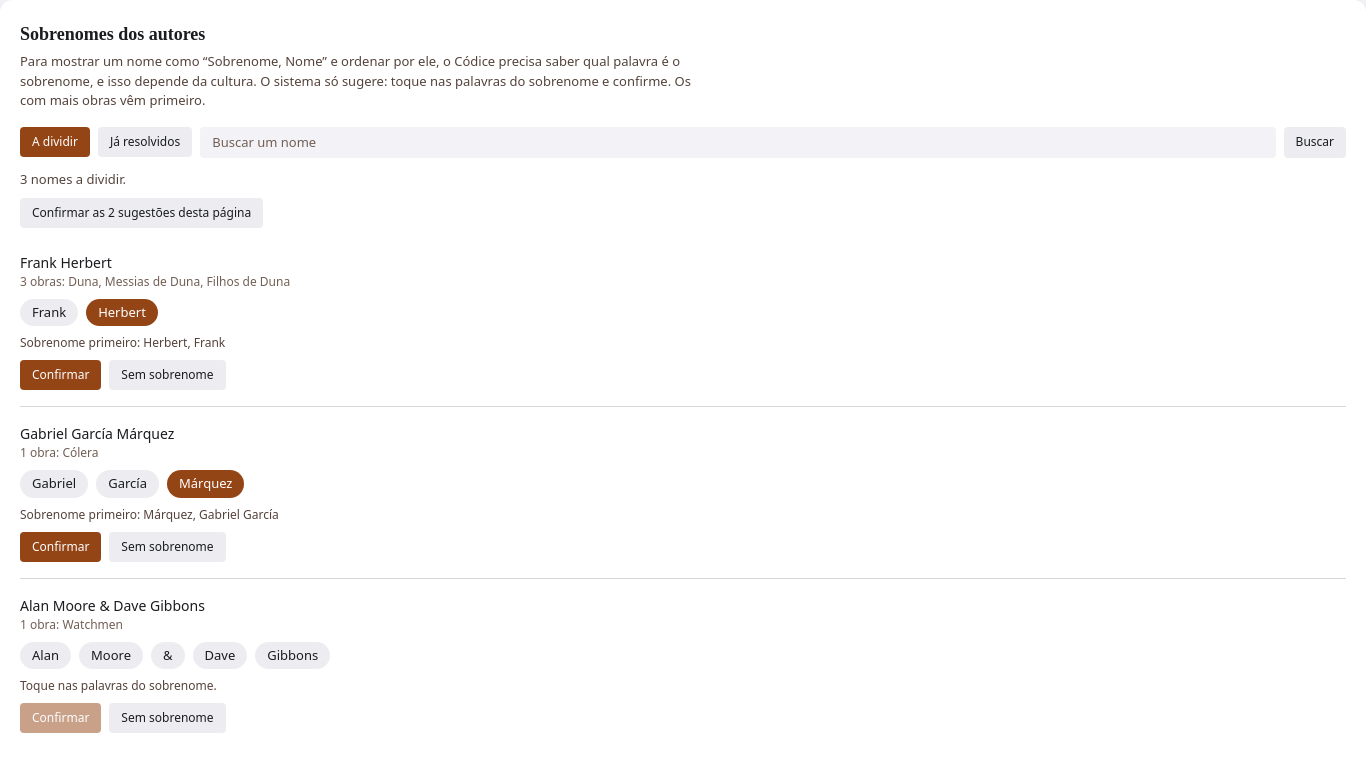
it: PersonNames: the names to divide › keeps the buttons of the page still while something is being saved
Step 1. Click the button "Confirmar" below "3 obras" → (61, 375), box [20, 360, 101, 390]
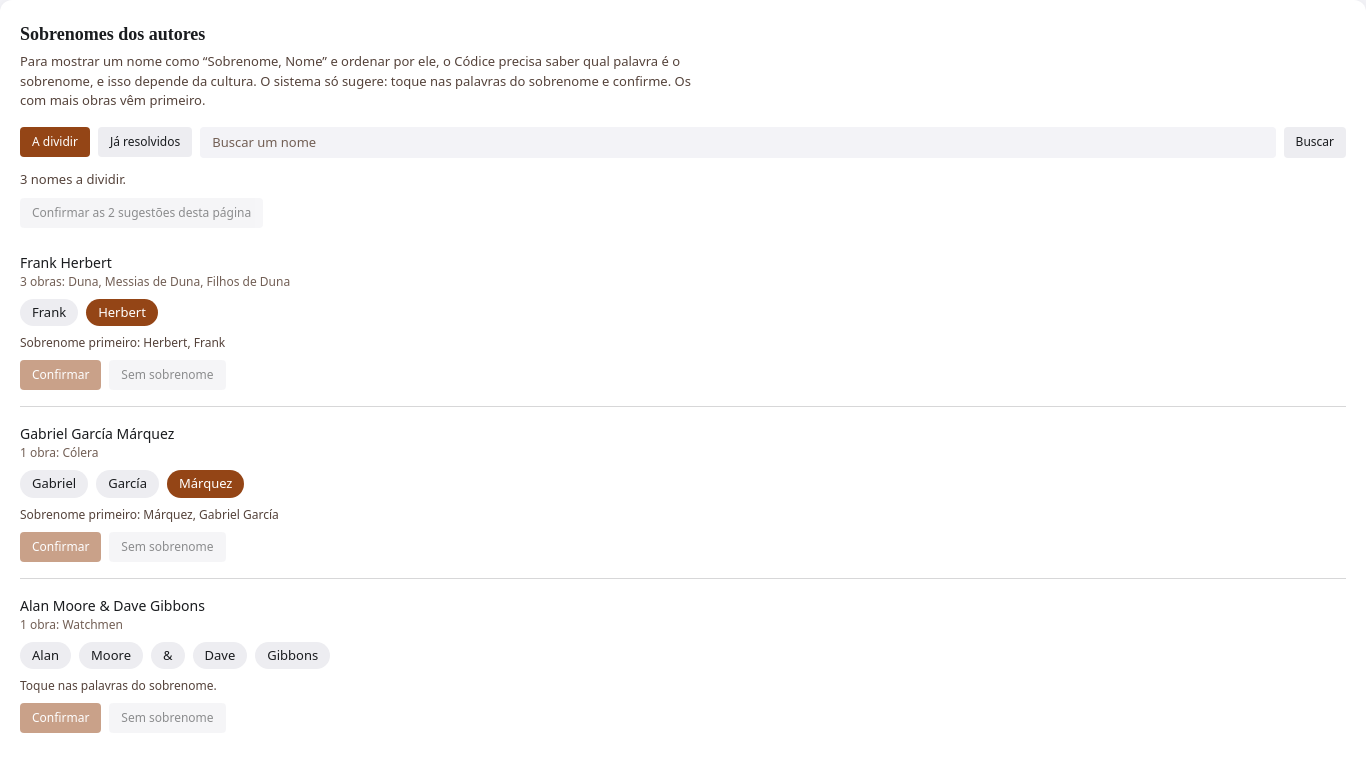
Expected: the button "Confirmar" below "3 obras" is disabled, [20, 360, 101, 390]
Expected: the button "Confirmar" below ": Cólera" is disabled, [20, 532, 101, 562]
Expected: the button "Sem sobrenome" below "3 obras" is disabled, [109, 360, 226, 390]
